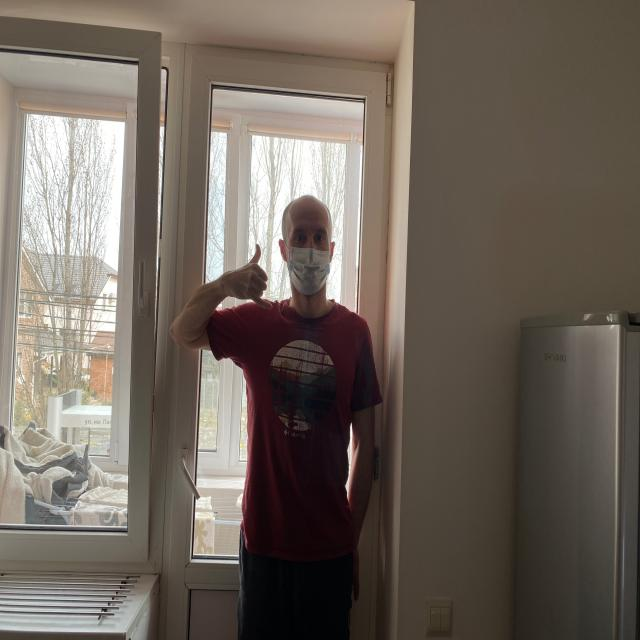call: (228, 243, 274, 311)
